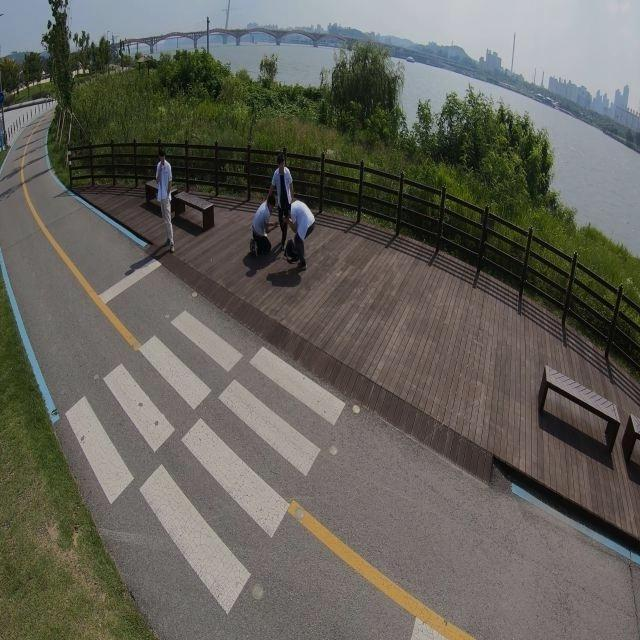fight: (247, 158, 311, 273)
non-fight: (157, 149, 177, 252)
